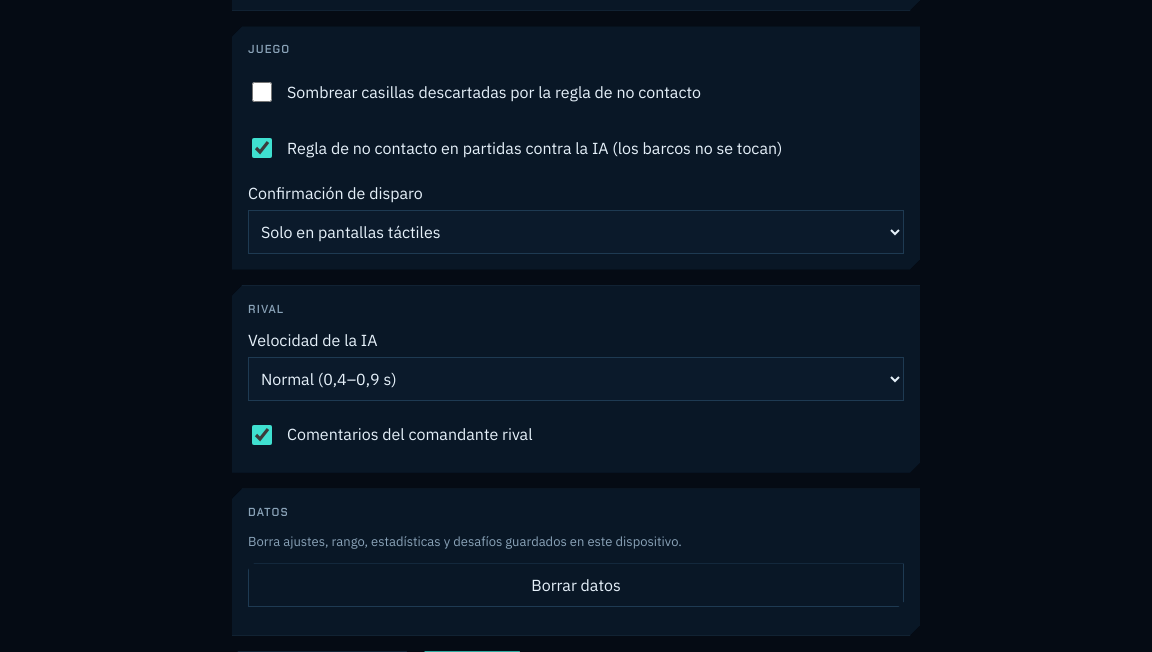
it: SettingsScreen · data › deletes settings, progress and saved keys once confirmed
(page scrolled)
Click the button "Borrar datos". click: {"x": 576, "y": 585}
box: [248,563,904,607]
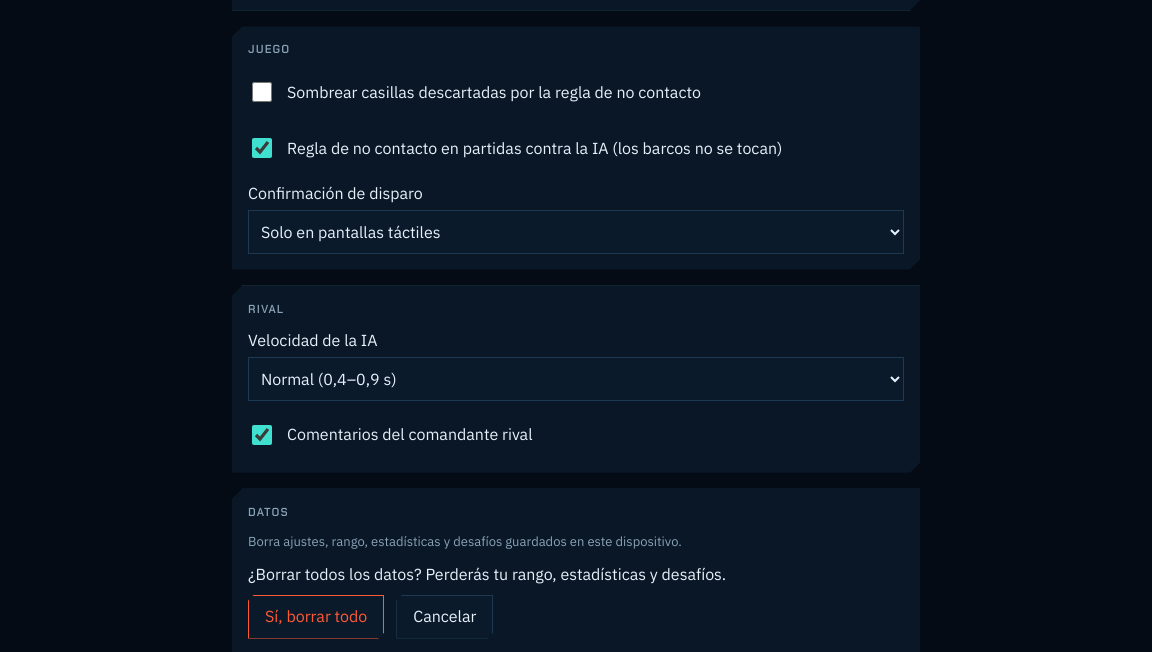
Click the button "Sí, borrar todo". click: {"x": 316, "y": 617}
box: [248,595,384,639]
(page scrolled)
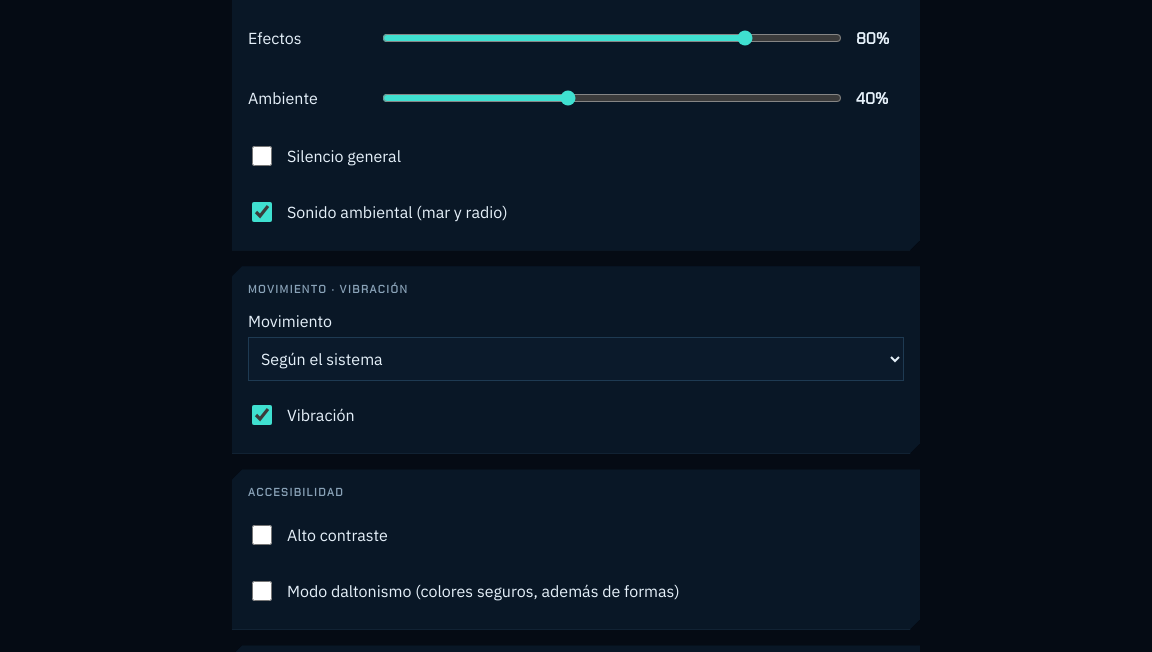
Now the dropdown labelled "Movimiento" shows "Según el sistema", box [248,338,904,382]
